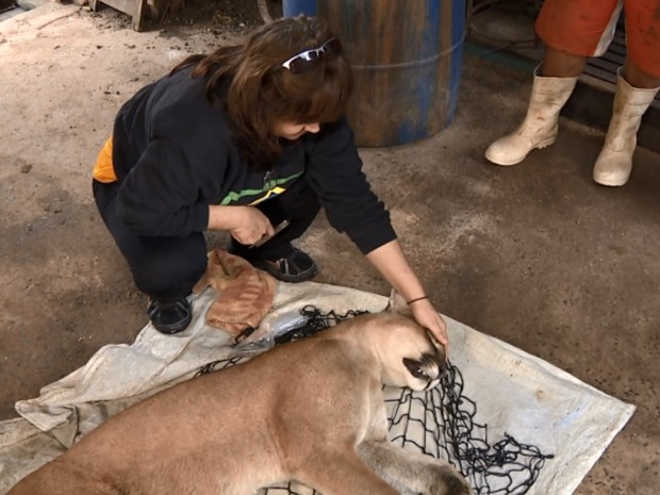OncaParda: (33, 301, 471, 490)
